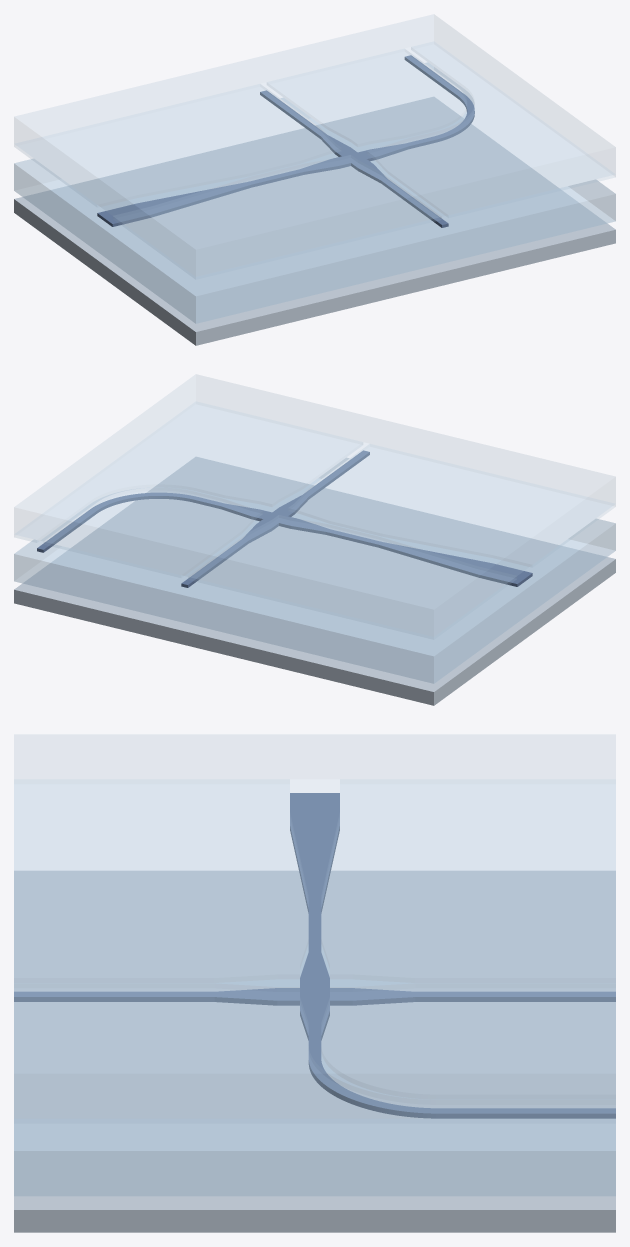
Rendered from stack-routing-x.glb.
The picture shows the model from 3 angles, top to bottom: view 1: azimuth 30°, elevation 25°; view 2: azimuth 150°, elevation 25°; view 3: azimuth 270°, elevation 25°; orthographic projection. The views are drawn at different scales.
Visible parts, largest first — view 1: cladd, sisub, box, siwg; view 2: cladd, sisub, box, siwg; view 3: cladd, sisub, box, siwg.
Boxes of the visible parts, x1,y1,x2,y2 form: cladd: (14, 14, 615, 279); sisub: (14, 96, 615, 345); box: (14, 62, 615, 323); siwg: (97, 55, 474, 227); cladd: (14, 374, 615, 639); sisub: (14, 456, 615, 705); box: (14, 458, 615, 683); siwg: (37, 450, 532, 587); cladd: (14, 735, 615, 1122); sisub: (14, 870, 615, 1232); box: (14, 945, 615, 1196); siwg: (14, 793, 615, 1118).
Bounding box in the file's own units: 32 × 7 × 24.
